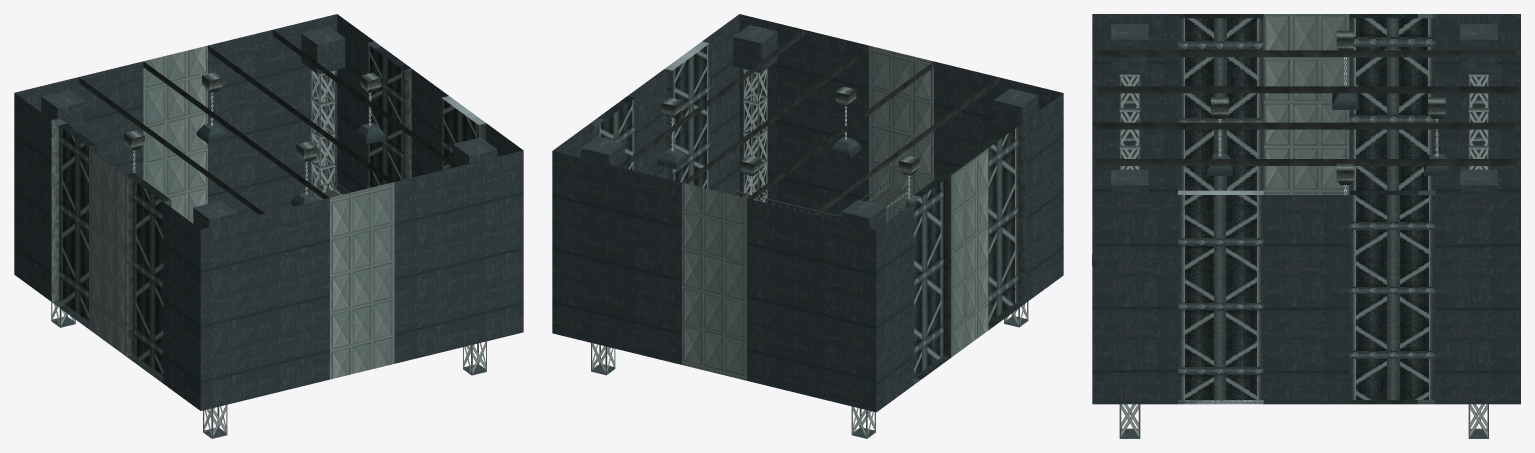
Rendered from Hangar_survivors.glb.
3 views of the same model, side by side, from view 1: azimuth 30°, elevation 25°; view 2: azimuth 150°, elevation 25°; view 3: azimuth 270°, elevation 25° (orthographic). The views are drawn at different scales.
Visible parts, largest first — view 1: transparent walls, mainstructure, column1, column1.001, column1.002, column1.003, lightfixture.002, lightfixture.001, lightfixture; view 2: mainstructure, transparent walls, column1.003, column1.002, column1, column1.001, lightfixture.002, lightfixture, railing; view 3: transparent walls, mainstructure, column1.002, column1.001, column1.003, column1, lightfixture.003, lightfixture, lightfixture.001.
Boxes of the visible parts, left/top/right/bottom form: transparent walls: left=200, top=14, right=523, bottom=410; mainstructure: left=14, top=14, right=458, bottom=410; column1: left=301, top=26, right=345, bottom=194; column1.001: left=41, top=89, right=85, bottom=327; column1.002: left=193, top=201, right=237, bottom=438; column1.003: left=453, top=137, right=496, bottom=375; lightfixture.002: left=355, top=72, right=385, bottom=144; lightfixture.001: left=197, top=72, right=227, bottom=143; lightfixture: left=291, top=141, right=318, bottom=206; mainstructure: left=552, top=30, right=1063, bottom=412; transparent walls: left=553, top=14, right=1062, bottom=222; column1.003: left=733, top=25, right=777, bottom=202; column1.002: left=994, top=88, right=1038, bottom=327; column1: left=581, top=136, right=625, bottom=375; column1.001: left=841, top=200, right=885, bottom=438; lightfixture.002: left=657, top=97, right=687, bottom=169; lightfixture: left=830, top=86, right=861, bottom=158; railing: left=727, top=178, right=910, bottom=220; transparent walls: left=1092, top=190, right=1520, bottom=404; mainstructure: left=1092, top=14, right=1520, bottom=404; column1.002: left=1111, top=24, right=1148, bottom=169; column1.001: left=1460, top=24, right=1497, bottom=169; column1.003: left=1111, top=169, right=1148, bottom=438; column1: left=1460, top=169, right=1497, bottom=438; lightfixture.003: left=1332, top=30, right=1358, bottom=109; lightfixture: left=1207, top=97, right=1232, bottom=175; lightfixture.001: left=1424, top=97, right=1449, bottom=175.
Size of the model in its own units: 41.69 by 28.08 by 41.71.
Materials: 50 (50 with a texture image).
